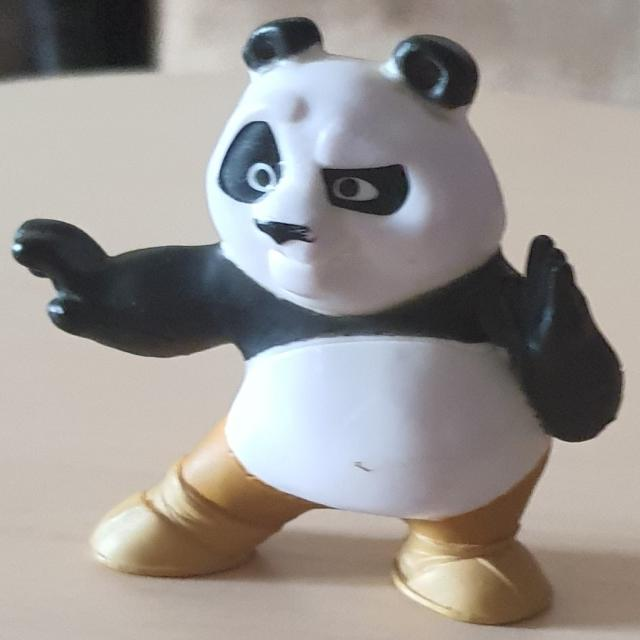Panda: (11, 15, 625, 626)
